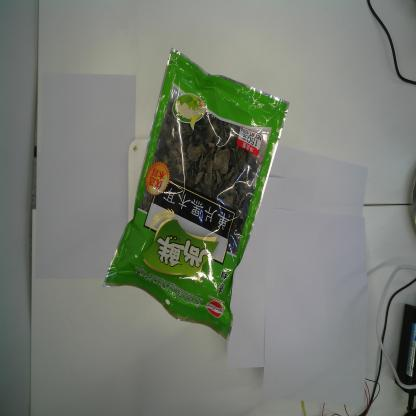Dried Food: (99, 45, 291, 345)
